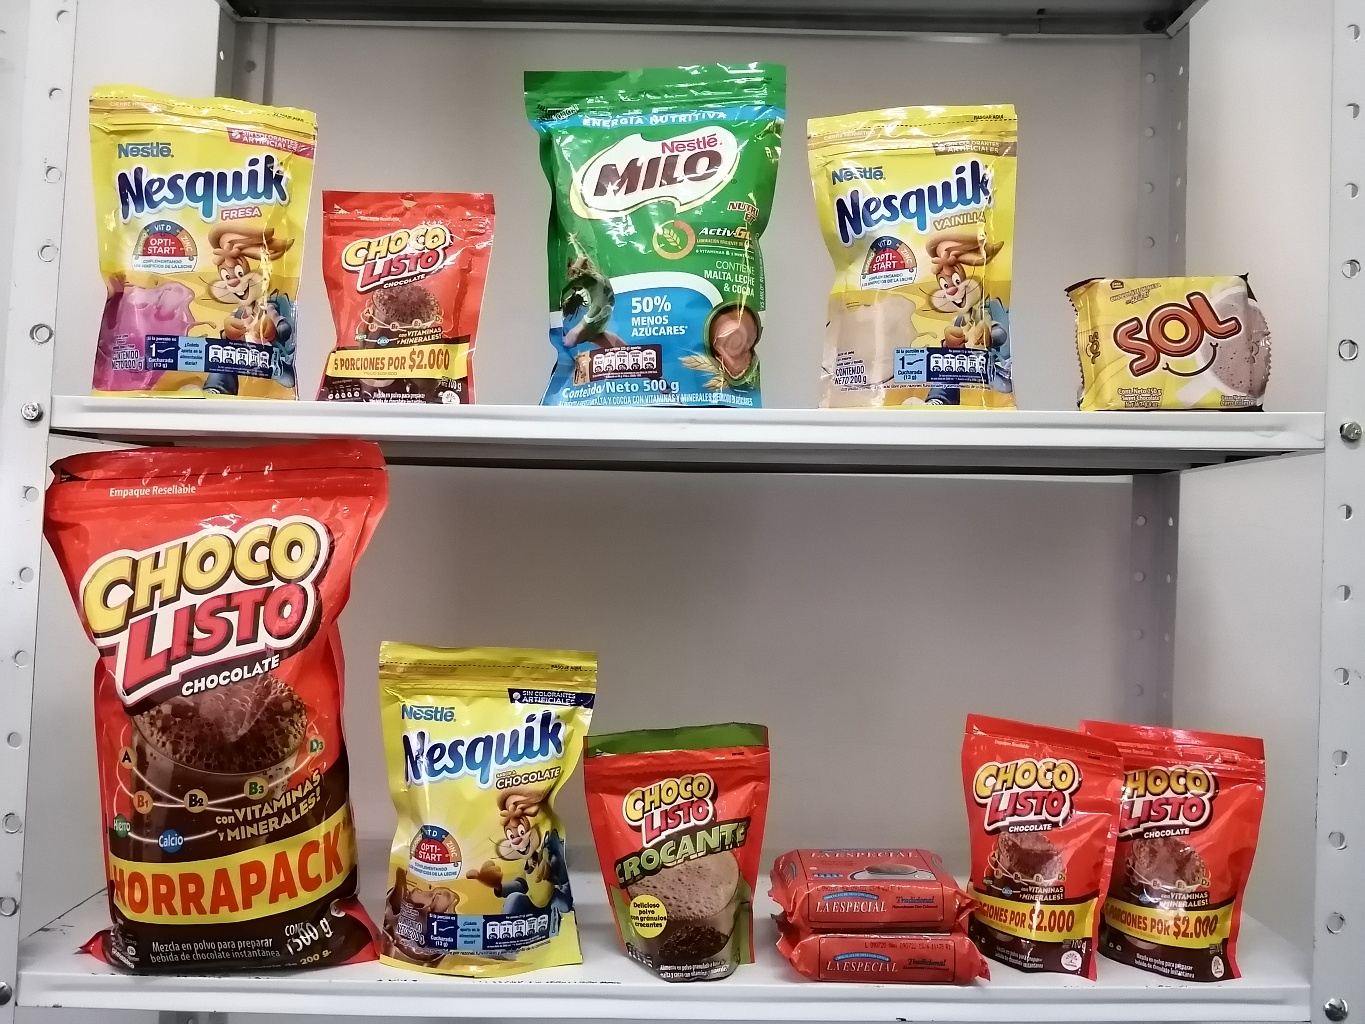COL0170102DYP10000: (580, 721, 773, 971)
COL0170103DYP1,500: (47, 453, 394, 978)
COL0170205DYP50000: (518, 69, 786, 406)
COL0170303DYP20000: (380, 635, 594, 975)
COL0170305DYP20000: (83, 85, 316, 398)
COL0170306DYP20000: (806, 106, 1027, 412)
